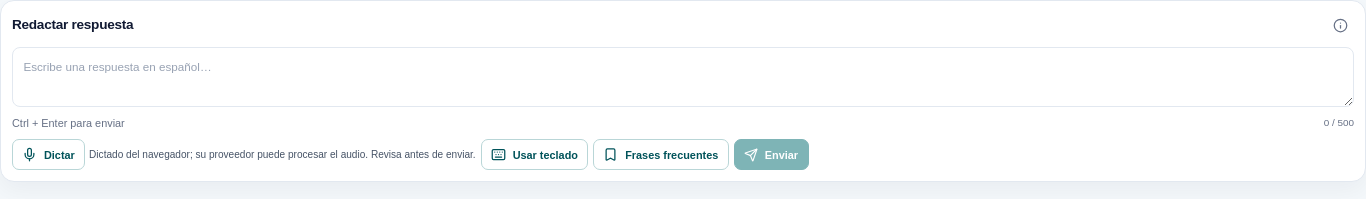
Test: ResponseComposer speech service › explains microphone denial and returns control to manual typing
Click the button with aria-label "Iniciar dictado" at (49, 155), box [12,139,85,170]
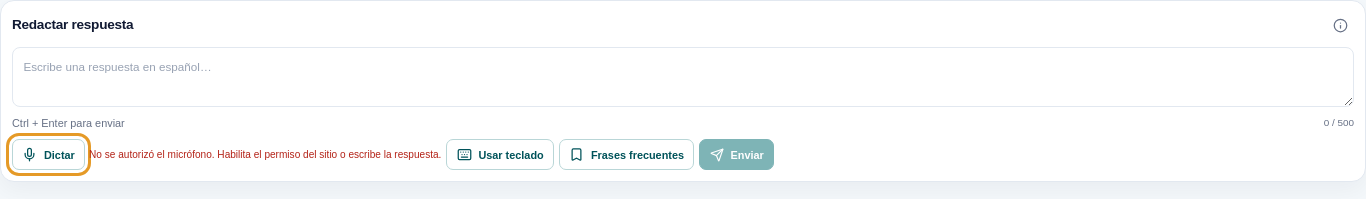
Expected: the text box named "Respuesta para la conversación" is enabled, [12,47,1354,107]
Now the message shows "No se autorizó el micrófono", box [89,149,441,160]
